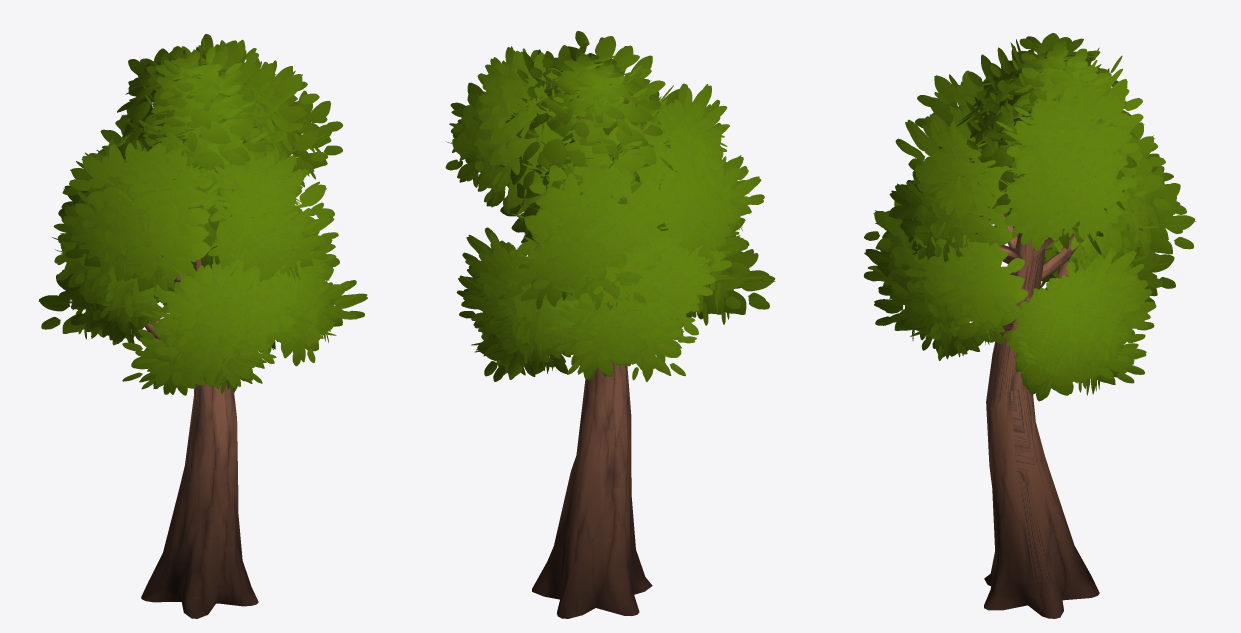
File: CommonTree_1.medium.gltf
The picture shows the model from 3 angles, left to right: view 1: azimuth 30°, elevation 25°; view 2: azimuth 150°, elevation 25°; view 3: azimuth 270°, elevation 25°; orthographic projection. The views are drawn at different scales.
Parts seen in each view (by area): view 1: CommonTree_1; view 2: CommonTree_1; view 3: CommonTree_1.
Part boxes in pixels (bbox=[...]): CommonTree_1: bbox=[38, 34, 367, 618]; CommonTree_1: bbox=[445, 31, 775, 618]; CommonTree_1: bbox=[864, 33, 1196, 618].
Size of the model in its own units: 4.31 by 7.26 by 4.58.
Materials: 2 (2 with a texture image).
